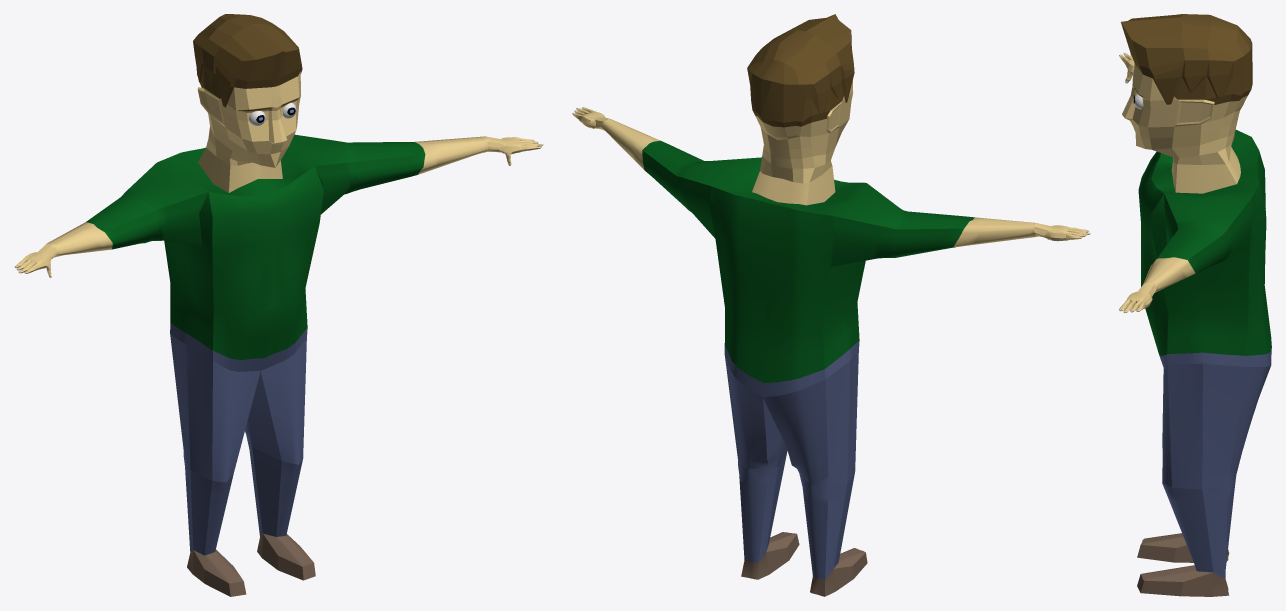
File: rick.fbx
The picture shows the model from 3 angles, left to right: view 1: azimuth 30°, elevation 25°; view 2: azimuth 150°, elevation 25°; view 3: azimuth 270°, elevation 25°; orthographic projection. The views are drawn at different scales.
Parts seen in each view (by area): view 1: Full_Body; view 2: Full_Body; view 3: Full_Body.
Boxes of the visible parts, x1,y1,x2,y2 form: Full_Body: [14, 14, 543, 596]; Full_Body: [572, 14, 1090, 596]; Full_Body: [1119, 14, 1271, 596].
Bounding box in the file's own units: 3.42 × 3.43 × 0.8503.
